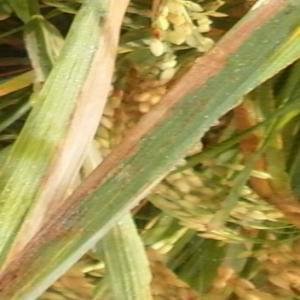2 BacterialBlight: (200, 1, 300, 97)
